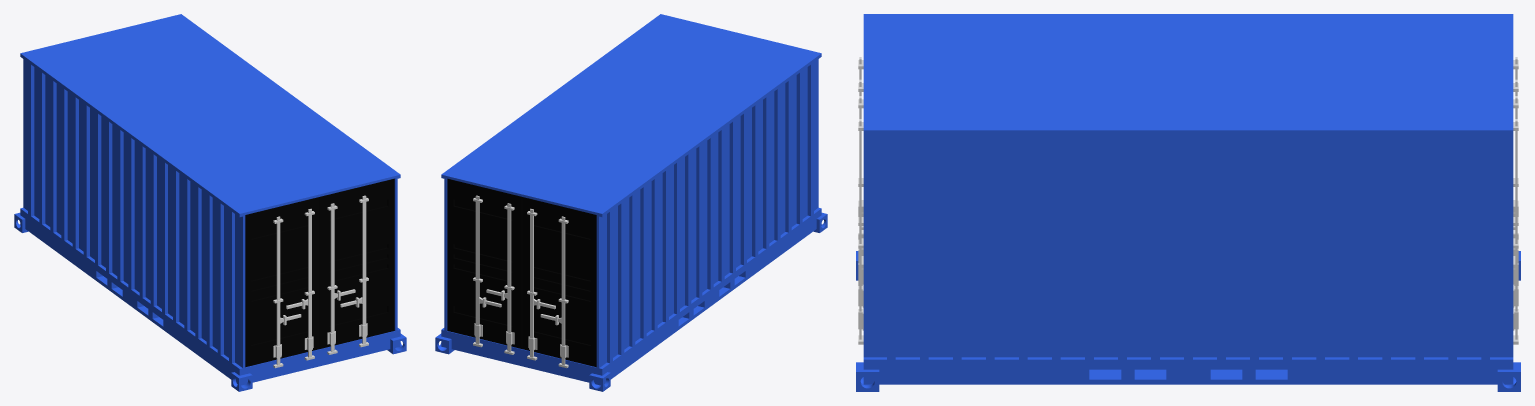
The model's file is 5、集装箱.fbx.
3 views of the same model, side by side, from view 1: azimuth 30°, elevation 25°; view 2: azimuth 150°, elevation 25°; view 3: azimuth 270°, elevation 25° (orthographic). The views are drawn at different scales.
Visible parts, largest first — view 1: 物件_8, 物件_7, 物件_84, 物件_83, 物件_5, 物件_6, 物件_62, 物件_53, 物件_71, 物件_80; view 2: 物件_8, 物件_7, 物件_82, 物件_81, 物件_5, 物件_6, 物件_26, 物件_17, 物件_35, 物件_44; view 3: 物件_8, 物件_6, 物件_5, 物件_7, 物件_17, 物件_53.
Part boxes in pixels (box(x1,y1,x2,y2)): 物件_8: box(23, 15, 397, 367); 物件_7: box(20, 52, 242, 369); 物件_84: box(319, 178, 394, 348); 物件_83: box(245, 197, 319, 367); 物件_5: box(20, 208, 400, 385); 物件_6: box(178, 14, 400, 333); 物件_62: box(330, 203, 334, 347); 物件_53: box(362, 195, 366, 340); 物件_71: box(276, 216, 280, 361); 物件_80: box(308, 208, 311, 353); 物件_8: box(444, 15, 818, 367); 物件_7: box(599, 52, 821, 370); 物件_82: box(447, 178, 522, 348); 物件_81: box(522, 197, 596, 367); 物件_5: box(441, 207, 821, 385); 物件_6: box(441, 14, 663, 333); 物件_26: box(507, 203, 511, 347); 物件_17: box(475, 195, 479, 340); 物件_35: box(561, 216, 565, 361); 物件_44: box(530, 208, 533, 353); 物件_8: box(863, 16, 1513, 357); 物件_6: box(863, 128, 1513, 364); 物件_5: box(863, 357, 1513, 384); 物件_7: box(863, 14, 1513, 16); 物件_17: box(1515, 119, 1517, 333); 物件_53: box(859, 119, 861, 333).
Bounding box in the file's own units: 260 × 604 × 260.
